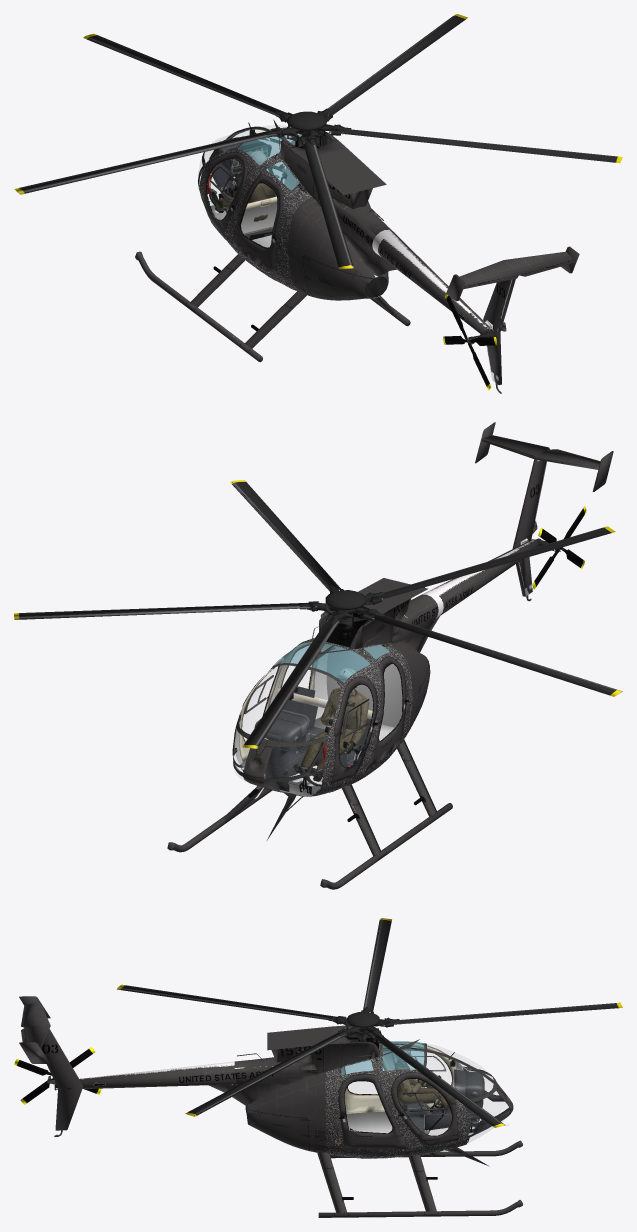
3 views of the same model, one above another, from view 1: azimuth 30°, elevation 25°; view 2: azimuth 150°, elevation 25°; view 3: azimuth 270°, elevation 25° (orthographic). The views are drawn at different scales.
Parts seen in each view (by area): view 1: ext_fuse1.001, rotor_main, ext_fuse1, ext_fuse1_doors, ext_skids, glasss_grn, int_seats2, ext_fuse1.005, int_pilotR, int_console, rotor_tail, int_fuse2; view 2: rotor_main, ext_fuse1.001, ext_fuse1, ext_fuse1_doors, ext_skids, ext_fuse1.004, int_pilotR, int_console, glasss_grn, ext_fuse1.005, int_seats2, glass (+4 smaller); view 3: ext_fuse1.001, rotor_main, ext_fuse1, ext_fuse1_doors, ext_skids, glass, int_console, ext_fuse1.002, ext_fuse1.005, glasss_grn, int_pilotR, ext_fuse1.003 (+3 smaller).
Boxes of the visible parts, x1,y1,x2,y2 form: ext_fuse1.001: [288, 149, 579, 393]; rotor_main: [14, 14, 622, 269]; ext_fuse1: [198, 119, 347, 282]; ext_fuse1_doors: [204, 152, 299, 273]; ext_skids: [135, 251, 410, 362]; glasss_grn: [238, 128, 301, 190]; int_seats2: [233, 195, 277, 239]; ext_fuse1.005: [200, 134, 311, 280]; int_pilotR: [209, 150, 277, 221]; int_console: [206, 139, 271, 194]; rotor_tail: [443, 294, 497, 390]; int_fuse2: [198, 128, 285, 197]; rotor_main: [14, 480, 622, 748]; ext_fuse1.001: [358, 422, 613, 732]; ext_fuse1: [233, 604, 412, 798]; ext_fuse1_doors: [239, 642, 409, 783]; ext_skids: [167, 739, 452, 889]; ext_fuse1.004: [326, 645, 402, 727]; int_pilotR: [293, 668, 369, 781]; int_console: [254, 709, 326, 791]; glasss_grn: [274, 638, 389, 682]; ext_fuse1.005: [234, 640, 412, 783]; int_seats2: [275, 686, 372, 767]; glass: [234, 666, 310, 781]; ext_fuse1.001: [19, 996, 331, 1152]; rotor_main: [117, 918, 622, 1127]; ext_fuse1: [324, 1025, 513, 1149]; ext_fuse1_doors: [338, 1043, 458, 1149]; ext_skids: [317, 1140, 522, 1217]; glass: [348, 1044, 508, 1143]; int_console: [424, 1069, 484, 1132]; ext_fuse1.002: [325, 1137, 489, 1166]; ext_fuse1.005: [325, 1042, 469, 1149]; glasss_grn: [341, 1041, 424, 1074]; int_pilotR: [394, 1043, 449, 1108]; ext_fuse1.003: [346, 1108, 448, 1135].
Size of the model in its own units: 7.48 by 2.89 by 9.2.
12 materials, 11 textured.
